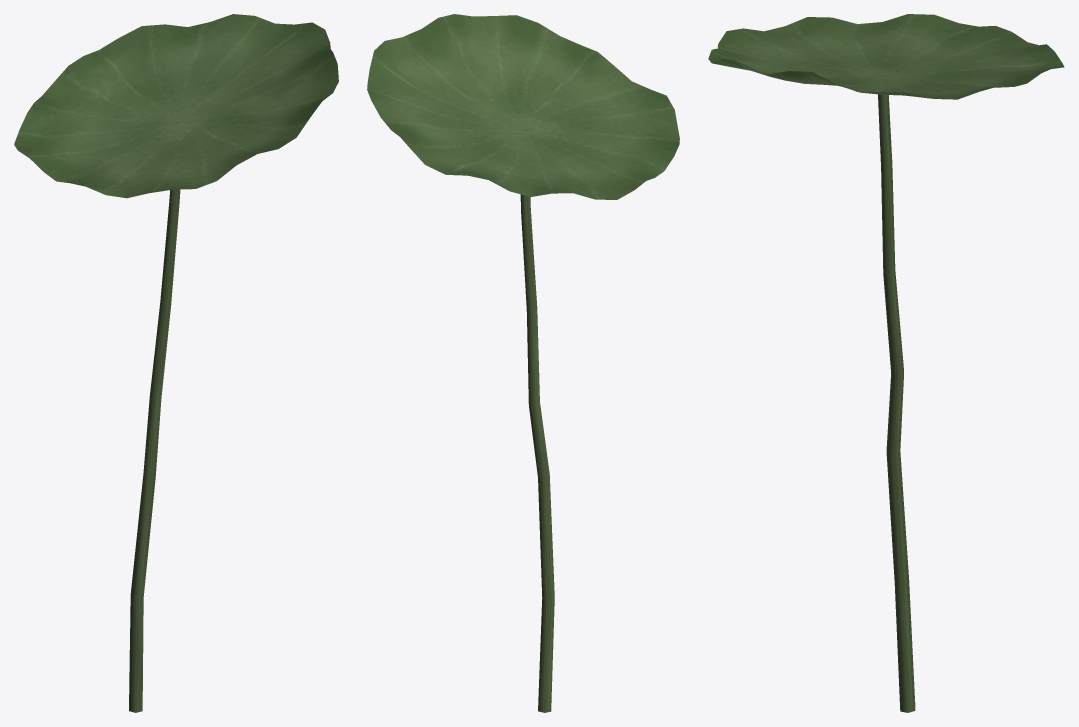
File: lotus_leaf_tall.glb
3 views of the same model, side by side, from view 1: azimuth 30°, elevation 25°; view 2: azimuth 150°, elevation 25°; view 3: azimuth 270°, elevation 25° (orthographic). The views are drawn at different scales.
Parts seen in each view (by area): view 1: lotus_leaf_tall; view 2: lotus_leaf_tall; view 3: lotus_leaf_tall.
Part boxes in pixels (x1,y1,x2,y2): lotus_leaf_tall: (14, 14, 338, 712); lotus_leaf_tall: (367, 14, 679, 712); lotus_leaf_tall: (708, 14, 1064, 712).
Size of the model in its own units: 0.4292 by 0.941 by 0.4215.
1 material, 1 textured.
